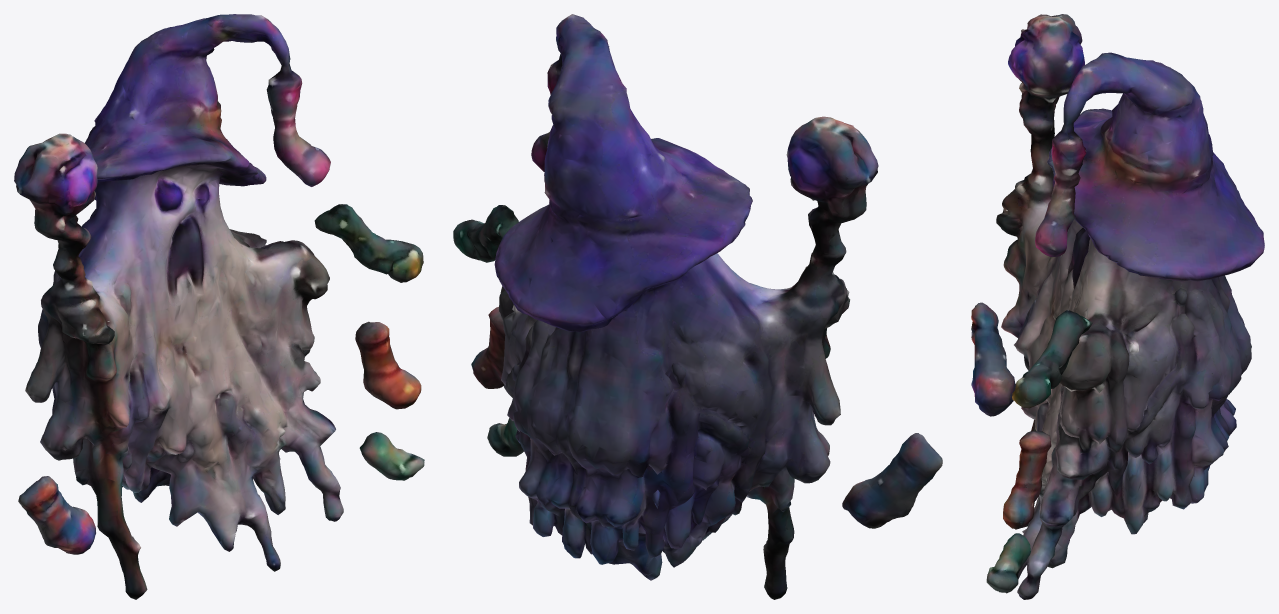
The model's file is lich.glb.
3 views of the same model, side by side, from view 1: azimuth 30°, elevation 25°; view 2: azimuth 150°, elevation 25°; view 3: azimuth 270°, elevation 25° (orthographic). The views are drawn at different scales.
Parts seen in each view (by area): view 1: world; view 2: world; view 3: world.
Part boxes in pixels (left/top/right/bottom): world: left=14, top=14, right=424, bottom=599; world: left=453, top=14, right=942, bottom=599; world: left=971, top=14, right=1264, bottom=599.
Bounding box in the file's own units: 0.8519 × 1 × 0.4969.
Materials: 1 (1 with a texture image).
